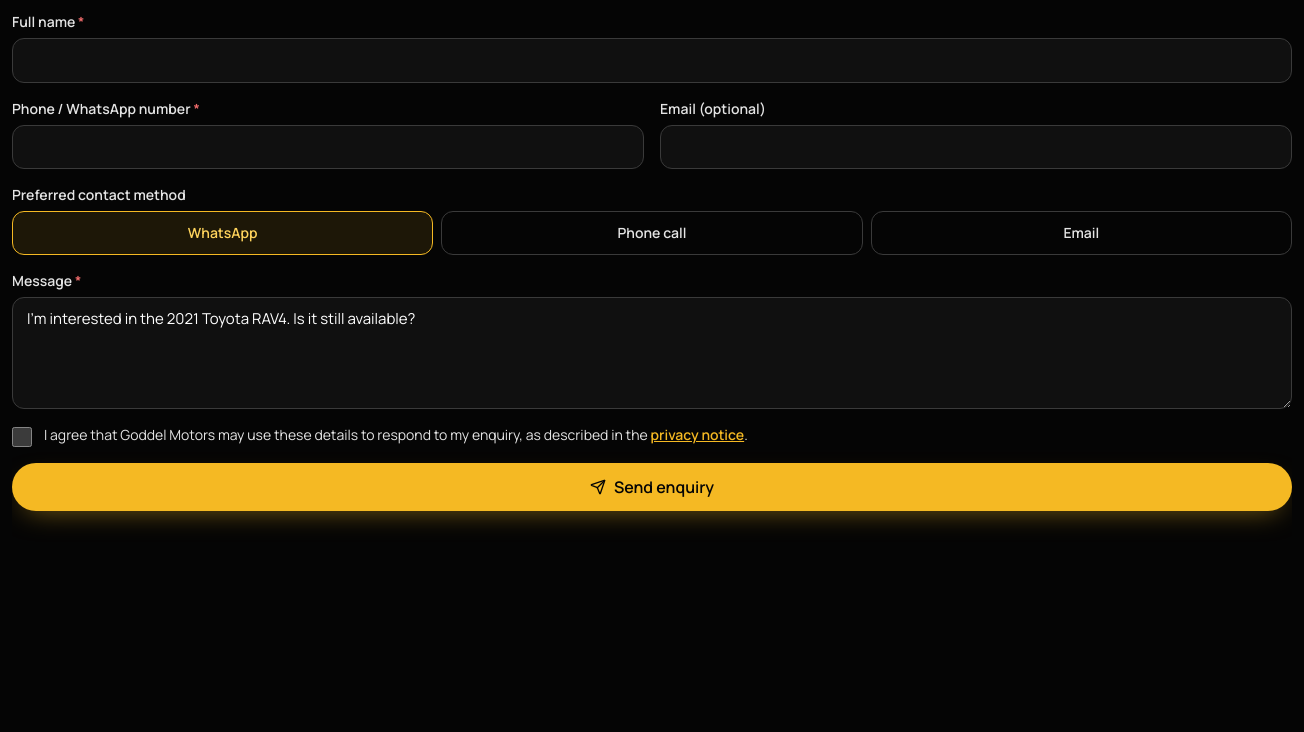
Test: EnquiryForm › prefills the message with the vehicle and submits it with the vehicle id
expect the text box labelled "Message *" holds "I'm interested in the 2021 Toyota RAV4. Is it still available?": met, box left=12, top=297, right=1292, bottom=409
Type "Ama Mensah" into the field labelled "Full name *" at (652, 60), box left=12, top=38, right=1292, bottom=82
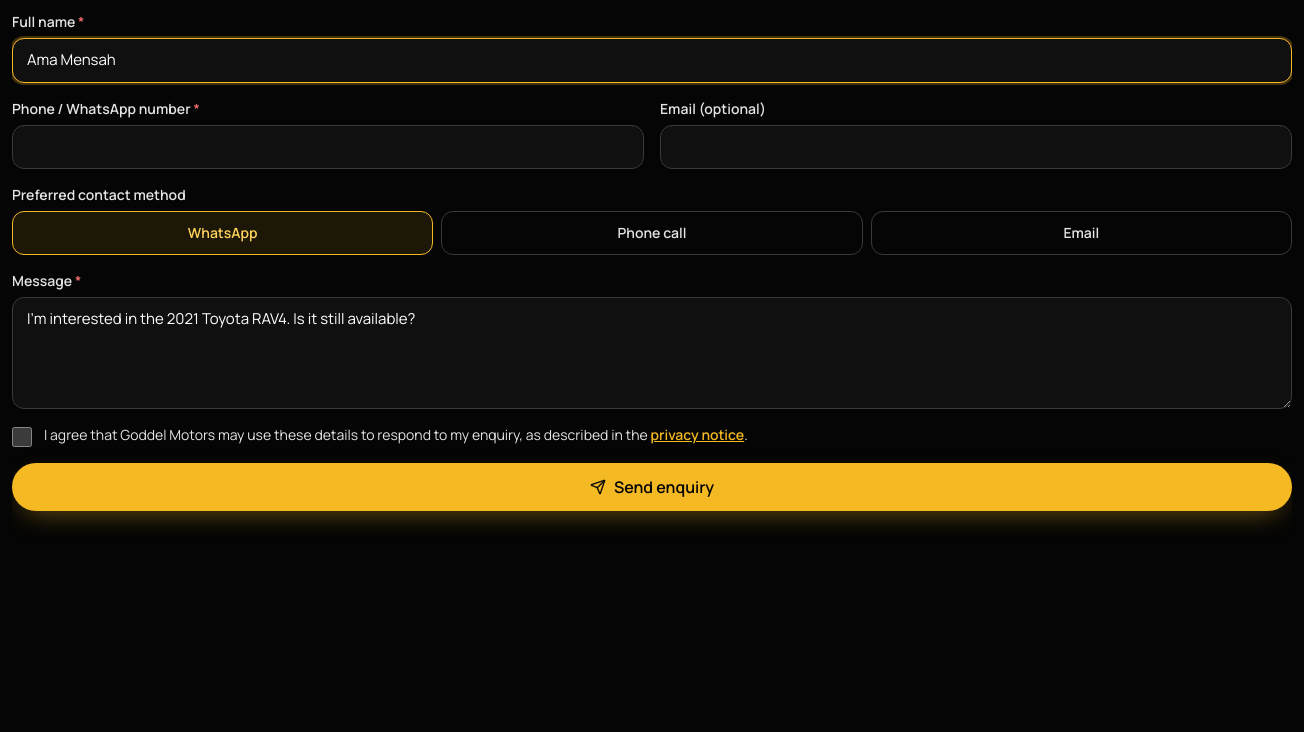
Type "+233 24 123 4567" into the field labelled "Phone / WhatsApp number *" at (328, 147), box left=12, top=124, right=644, bottom=169
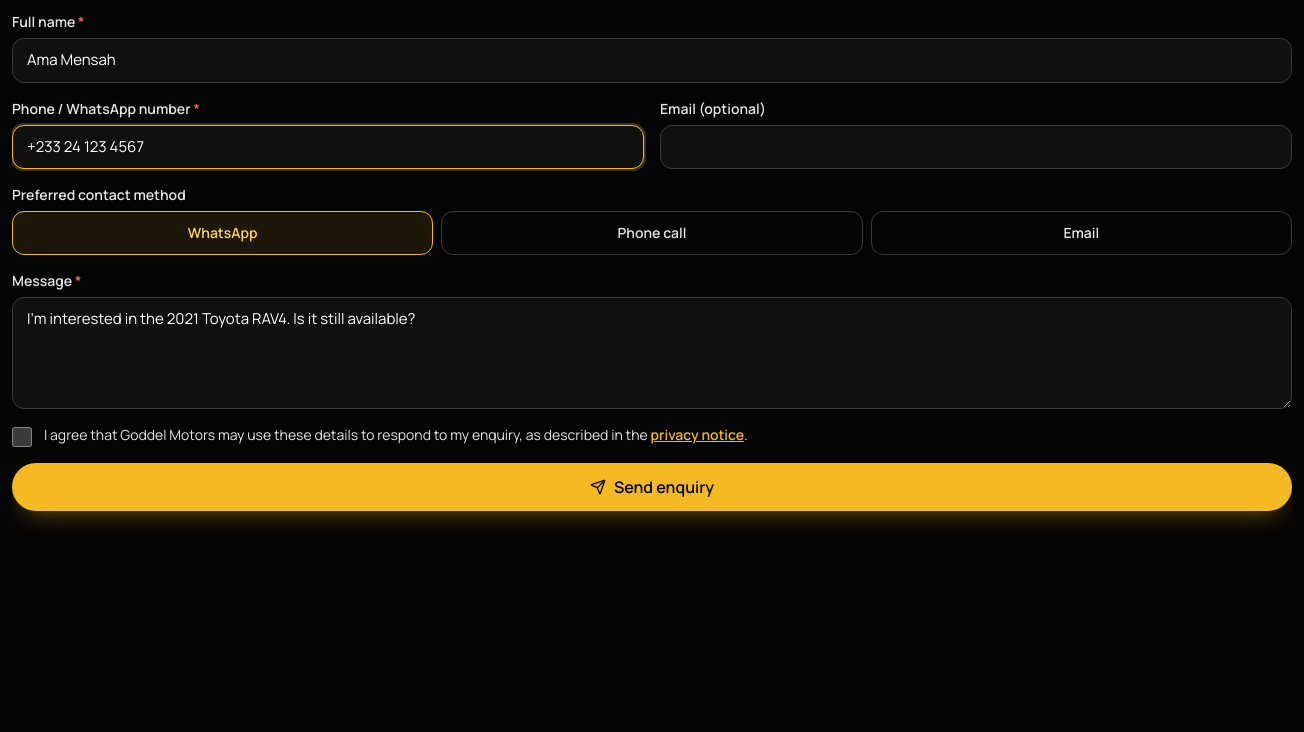
Click the checkbox at (22, 437), box left=12, top=427, right=32, bottom=447
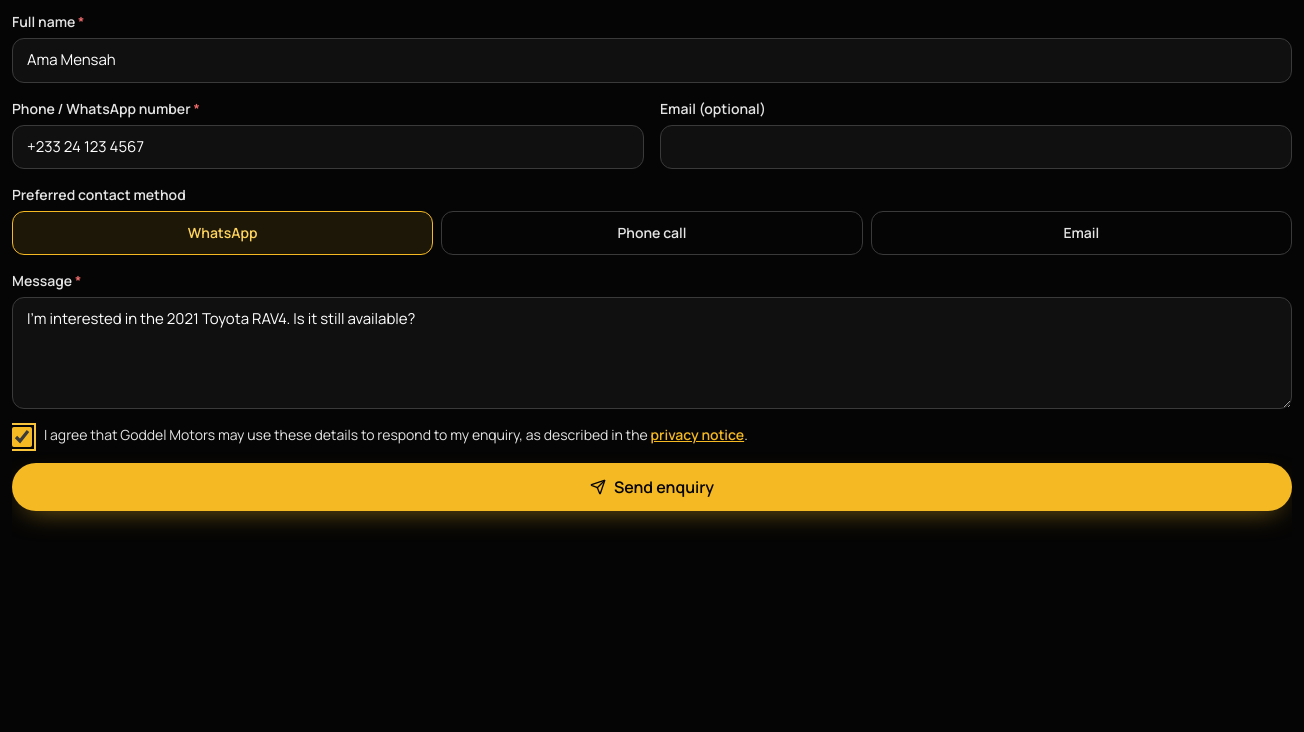
Click the button "Send enquiry" at (652, 487), box left=12, top=463, right=1292, bottom=511
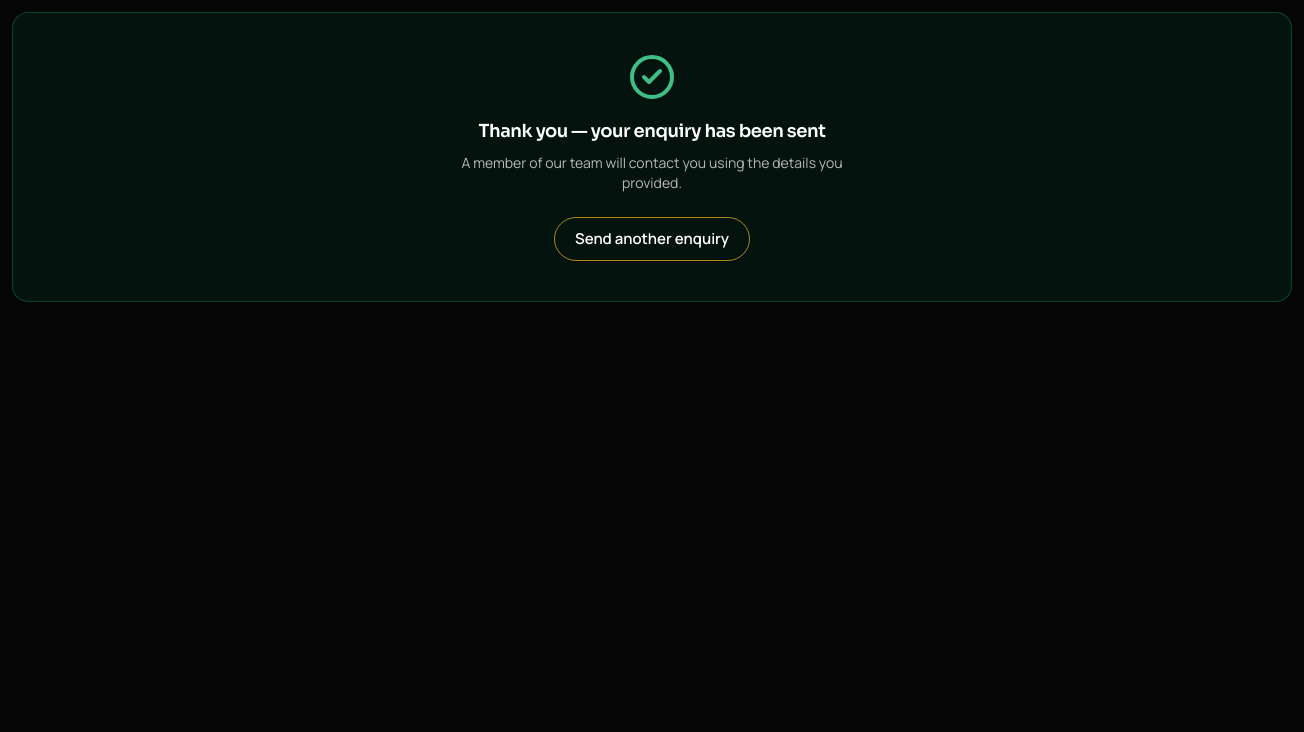
expect the heading "Thank you — your enquiry has been sent" is shown: met, box left=478, top=117, right=826, bottom=145
